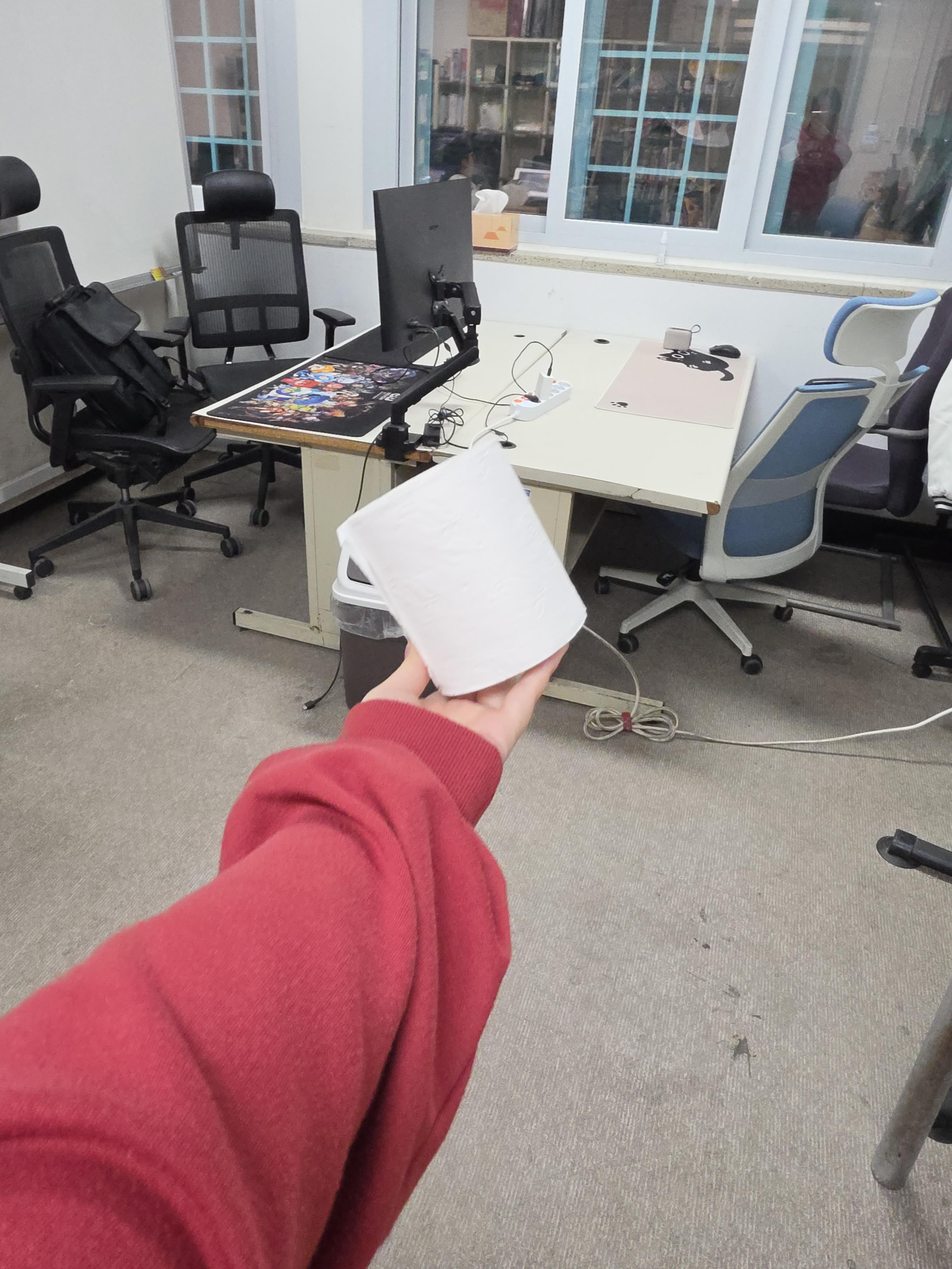tissue: (335, 434, 588, 697), (472, 189, 519, 252)
